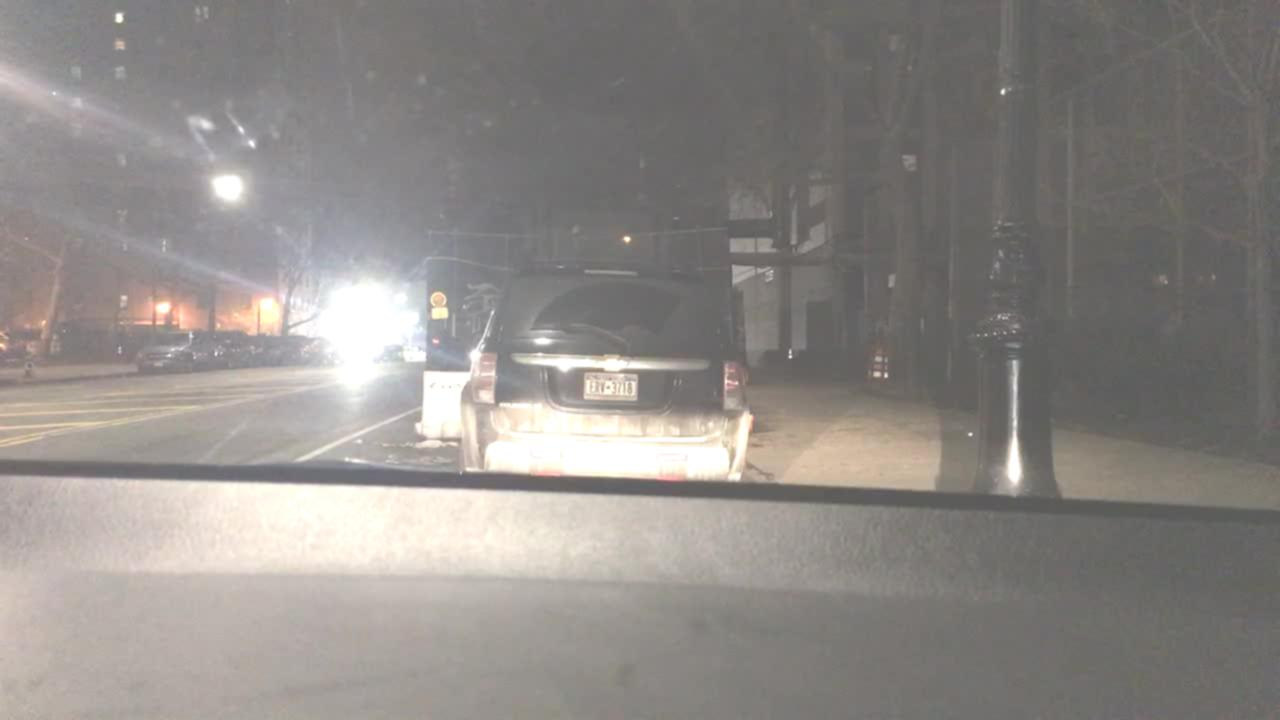chevrolet: (592, 351, 632, 378)
